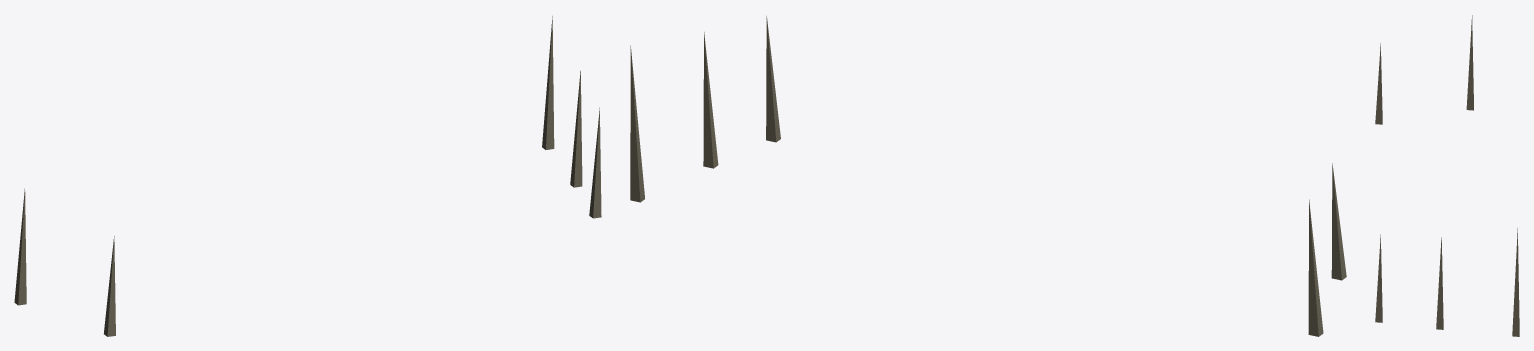
File: teaching3-vegetation-10-medium.glb
3 renders of one model, left to right at view 1: azimuth 30°, elevation 25°; view 2: azimuth 150°, elevation 25°; view 3: azimuth 270°, elevation 25°, orthographic. The views are drawn at different scales.
Visible parts, largest first — view 1: vegetation palm trunk; view 2: vegetation palm trunk; view 3: vegetation palm trunk.
Part boxes in pixels (box(x1,y1,x2,y2)): vegetation palm trunk: box(14, 16, 601, 336); vegetation palm trunk: box(630, 16, 1346, 336); vegetation palm trunk: box(1375, 15, 1519, 336).
Size of the model in its own units: 35.81 by 8.02 by 9.5.
